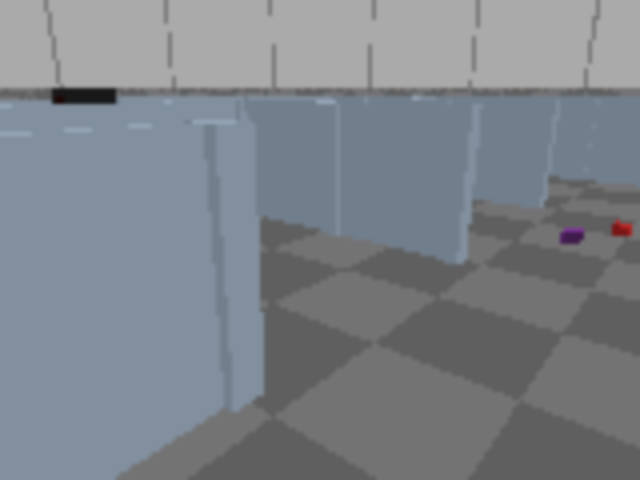puck: (561, 227, 583, 245), (610, 222, 633, 237)
